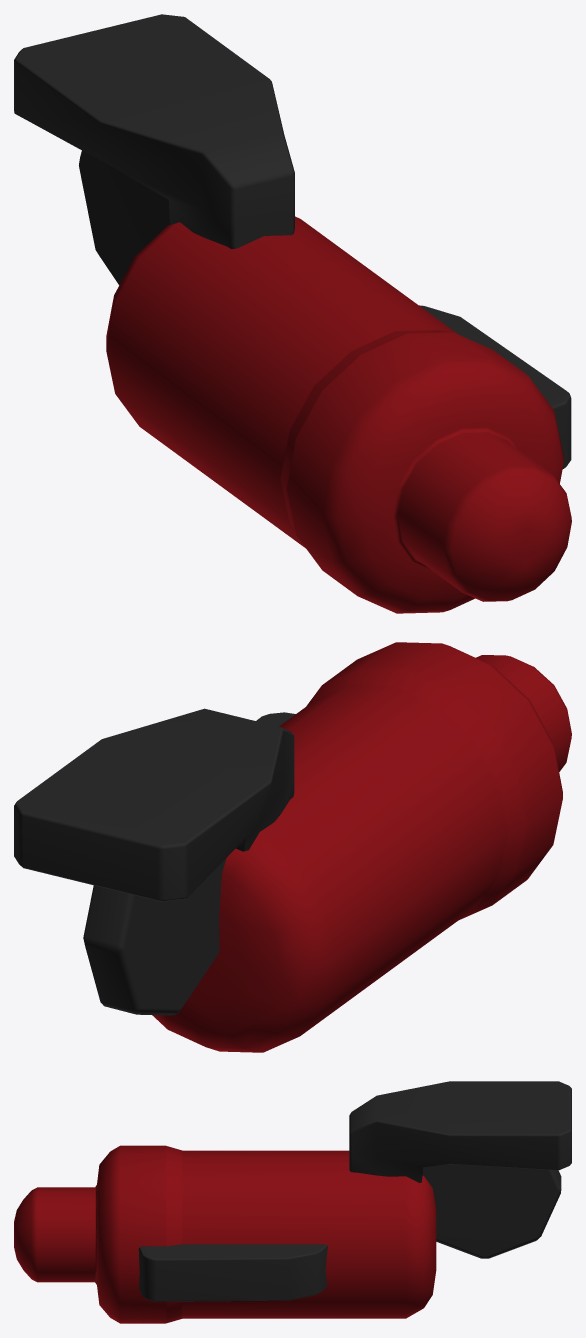
Rendered from Spaceship_main_01_Weapon_L.fbx.
The picture shows the model from 3 angles, top to bottom: view 1: azimuth 30°, elevation 25°; view 2: azimuth 150°, elevation 25°; view 3: azimuth 270°, elevation 25°; orthographic projection. The views are drawn at different scales.
Parts seen in each view (by area): view 1: Spaceship_main_01_Weapon_L; view 2: Spaceship_main_01_Weapon_L; view 3: Spaceship_main_01_Weapon_L.
Part boxes in pixels (x1,y1,x2,y2): Spaceship_main_01_Weapon_L: [14, 14, 571, 613]; Spaceship_main_01_Weapon_L: [14, 642, 571, 1052]; Spaceship_main_01_Weapon_L: [14, 1081, 571, 1323].
Bounding box in the file's own units: 88.99 × 100 × 243.
